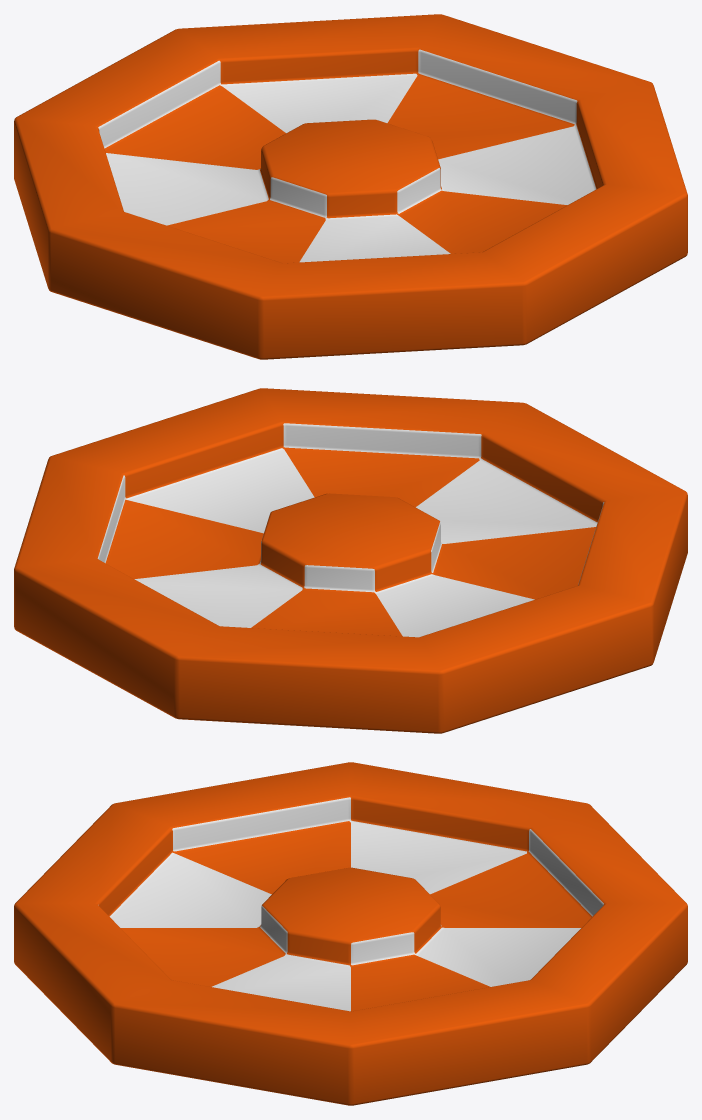
File: target.fbx
3 views of the same model, one above another, from view 1: azimuth 30°, elevation 25°; view 2: azimuth 150°, elevation 25°; view 3: azimuth 270°, elevation 25° (orthographic). The views are drawn at different scales.
Visible parts, largest first — view 1: Cylinder; view 2: Cylinder; view 3: Cylinder.
Boxes of the visible parts, x1,y1,x2,y2 form: Cylinder: [14, 14, 687, 359]; Cylinder: [14, 388, 687, 733]; Cylinder: [14, 762, 687, 1105].
Size of the model in its own units: 200 by 20 by 200.
